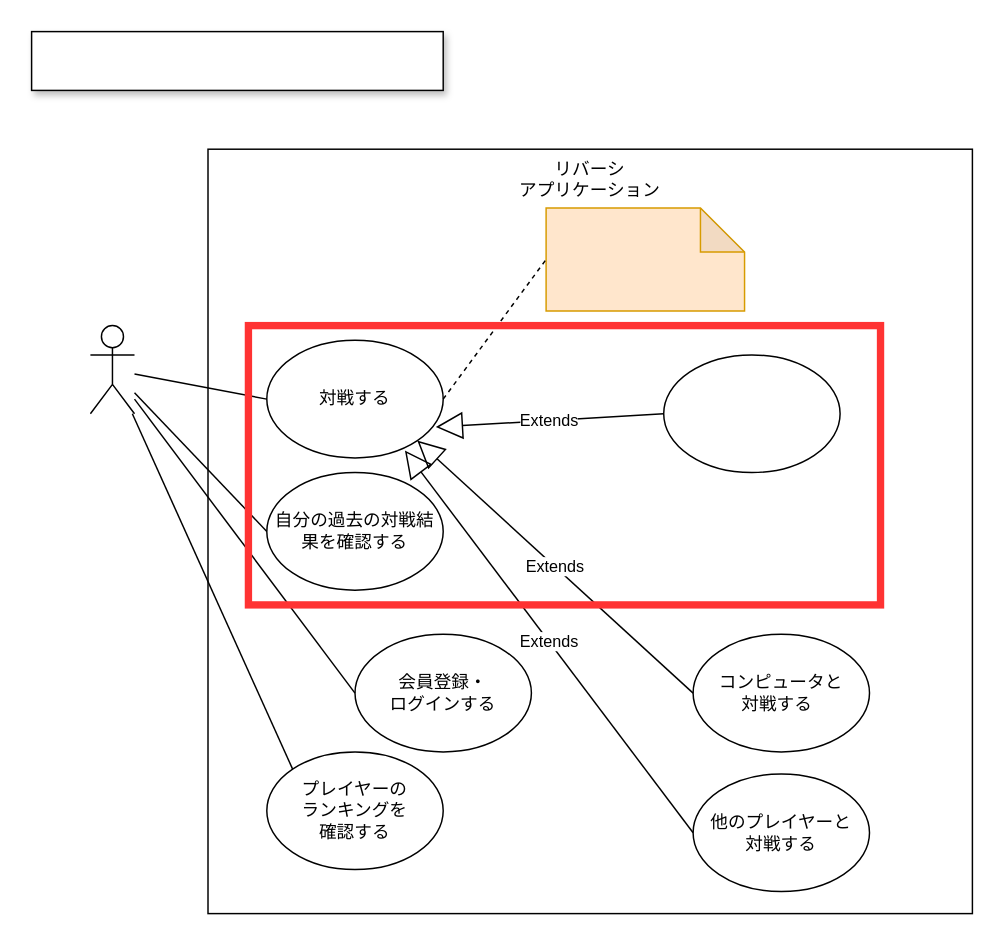
Some shapes in this 998 by 939 pixel diagram are drawn without their labels. The shapes that lost their labels are listed below. From the top down, each one's centre as x and y in pixels, then its label:
At (x=238, y=62): "ユースケース図： 登場人物がシステムで何をするかを整理した図".
At (x=645, y=259): "・対戦を開始する ・盤面を見る ・石を打つ ・勝敗を確認する".
At (x=112, y=369): "プレイヤー".
At (x=751, y=413): "一人で黒白 交互に打つ".
